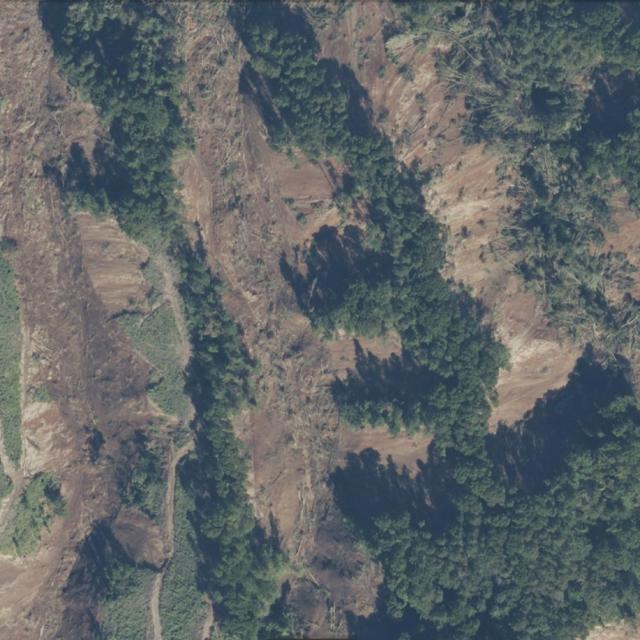landslide: (158, 0, 586, 639), (0, 1, 221, 640)
